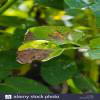Potato leaf early blight: (21, 25, 82, 46), (15, 40, 67, 63)
